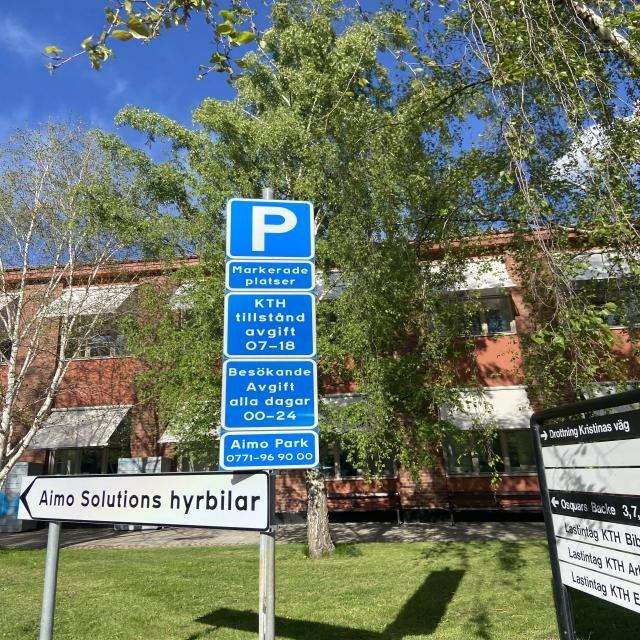P-skylt: (225, 195, 313, 259)
